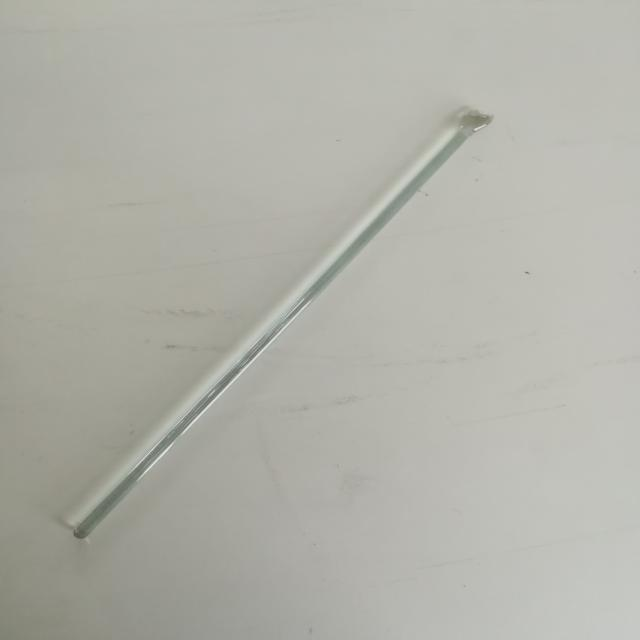Glass_Rod: (50, 91, 507, 568)
